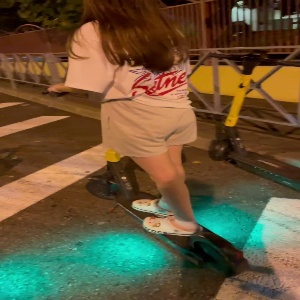human on a scooter: (42, 1, 251, 278)
